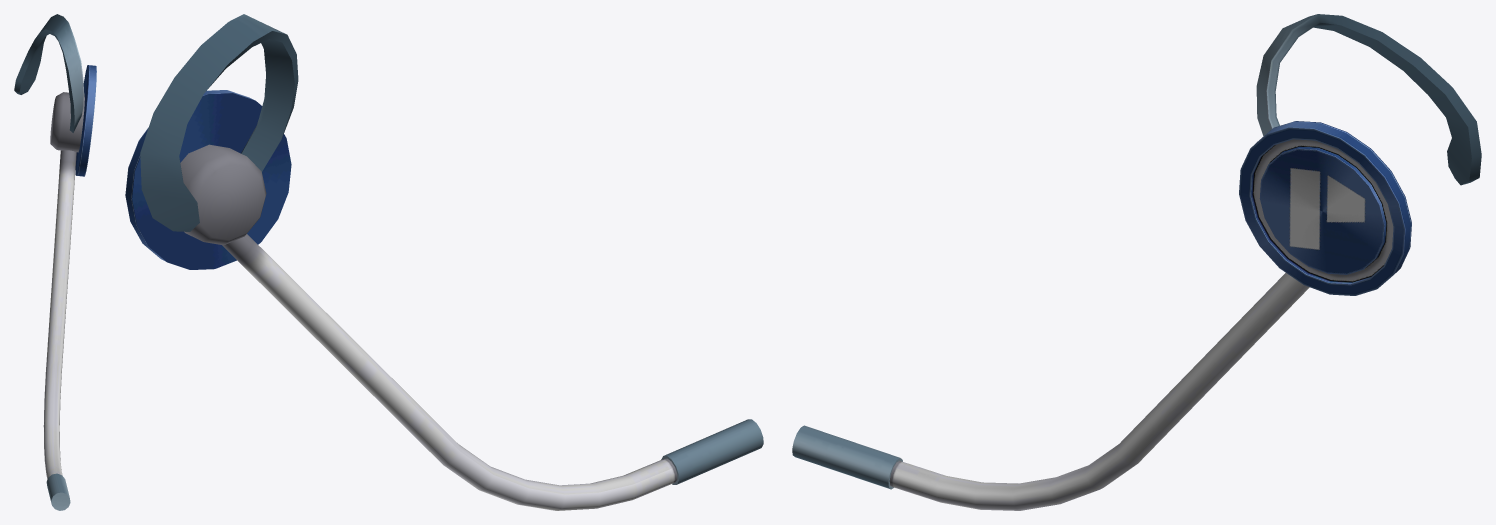
File: EntrainingIntercomMitsuru.fbx
3 renders of one model, left to right at view 1: azimuth 30°, elevation 25°; view 2: azimuth 150°, elevation 25°; view 3: azimuth 270°, elevation 25°, orthographic. The views are drawn at different scales.
Parts seen in each view (by area): view 1: EntrainingIntercomMitsuru; view 2: EntrainingIntercomMitsuru; view 3: EntrainingIntercomMitsuru.
Part boxes in pixels (x1=…): EntrainingIntercomMitsuru: x1=14, y1=14, x2=96, y2=510; EntrainingIntercomMitsuru: x1=125, y1=14, x2=763, y2=510; EntrainingIntercomMitsuru: x1=792, y1=14, x2=1481, y2=510.
Bounding box in the file's own units: 0.0513 × 0.0793 × 0.0838.
Materials: 1 (1 with a texture image).
